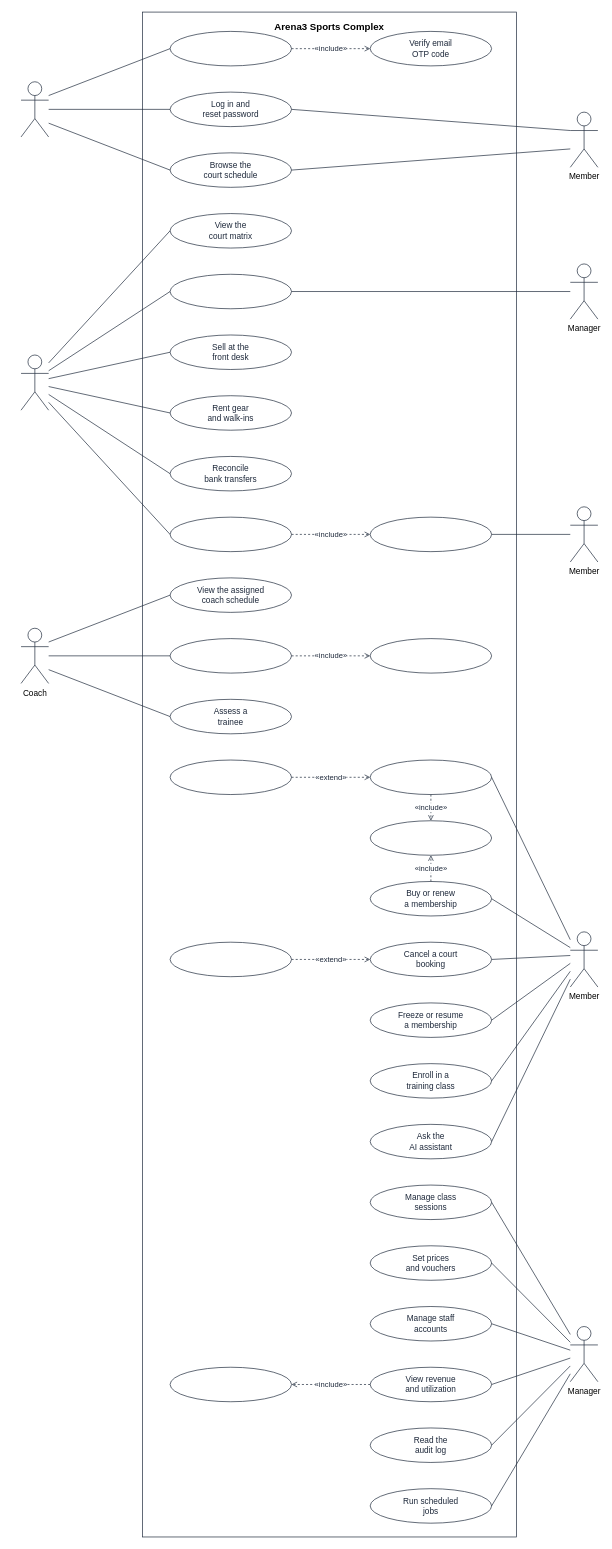
Some shapes in this 612 by 1549 pixel diagram are drawn without their labels. Here are the shapes that lost their labels. From the top down, the centre of each, then its label:
[230,48]: Register member account
[34,109]: Guest
[230,291]: Run a till shift
[34,382]: Receptionist
[230,534]: Check in at the gate
[430,534]: Display the QR member pass
[230,655]: Record session attendance
[430,655]: Lock the attendance book
[230,777]: Reschedule the booking
[430,777]: Book a court and hold the slot
[430,837]: Pay online by VietQR
[230,959]: Refund the court booking
[230,1384]: Export a report
